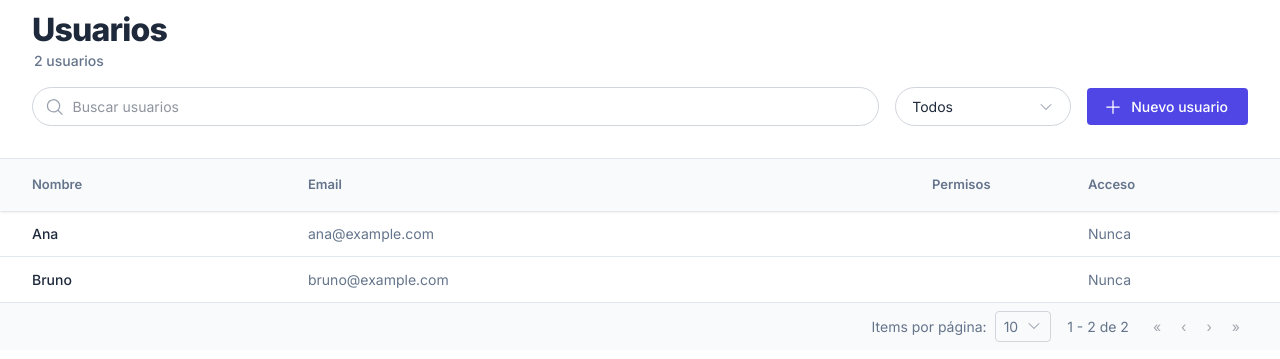
Test: AccountsList › el buscador filtra por nombre y email sin volver a la API
Expected: the text "Ana" is shown, top-left (32, 224), bottom-right (58, 242)
Type "bruno@" into the field with placeholder "Buscar usuarios" at (465, 106), box top-left (64, 88), bottom-right (866, 125)
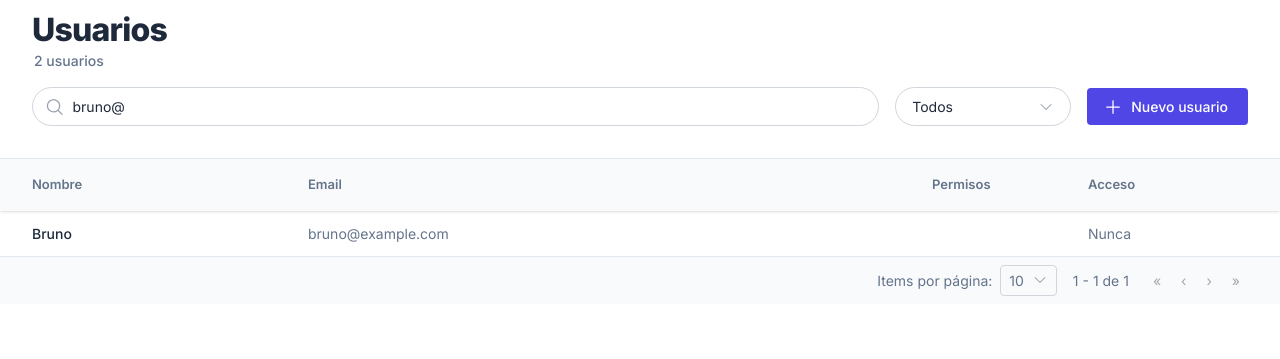
Expected: the text "Bruno" is shown, top-left (32, 224), bottom-right (72, 242)
Expected: the link "Ana" is gone
